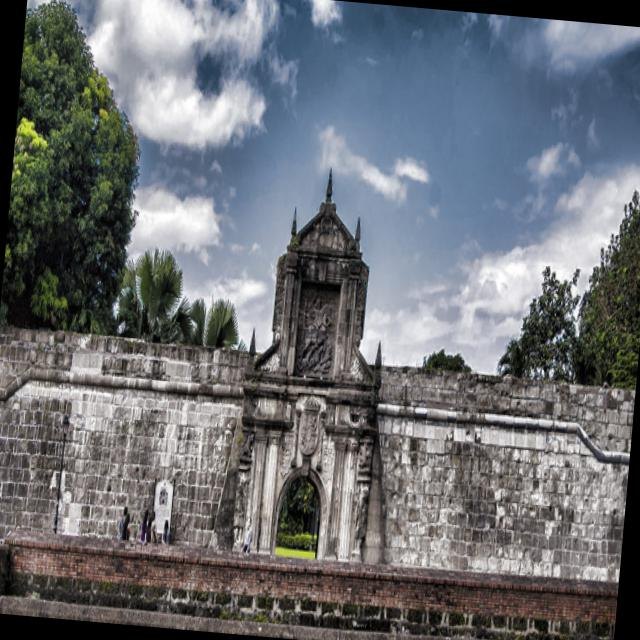Fort Santiago: (0, 170, 635, 582)
